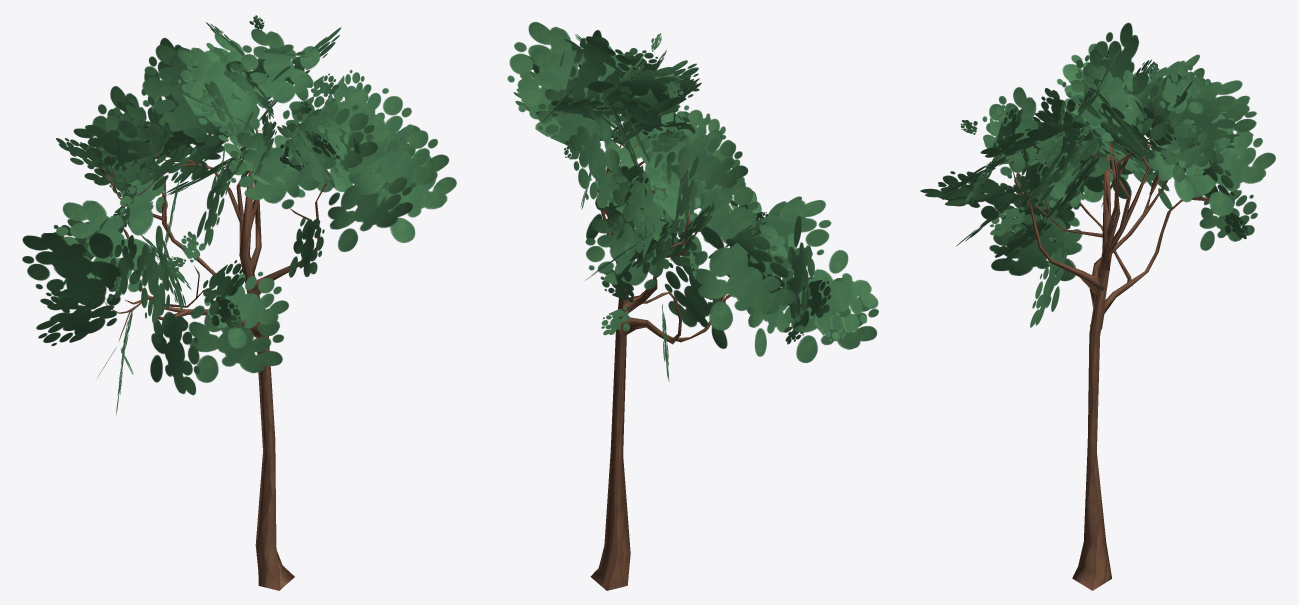
Rendered from SM_Tree_05.glb.
3 views of the same model, side by side, from view 1: azimuth 30°, elevation 25°; view 2: azimuth 150°, elevation 25°; view 3: azimuth 270°, elevation 25° (orthographic). The views are drawn at different scales.
Parts seen in each view (by area): view 1: SM_Tree_05; view 2: SM_Tree_05; view 3: SM_Tree_05.
Part boxes in pixels (x1,y1,x2,y2): SM_Tree_05: [22, 15, 456, 590]; SM_Tree_05: [507, 22, 878, 590]; SM_Tree_05: [920, 22, 1275, 590].
Bounding box in the file's own units: 3.37 × 4.59 × 2.89.
2 materials, 2 textured.
